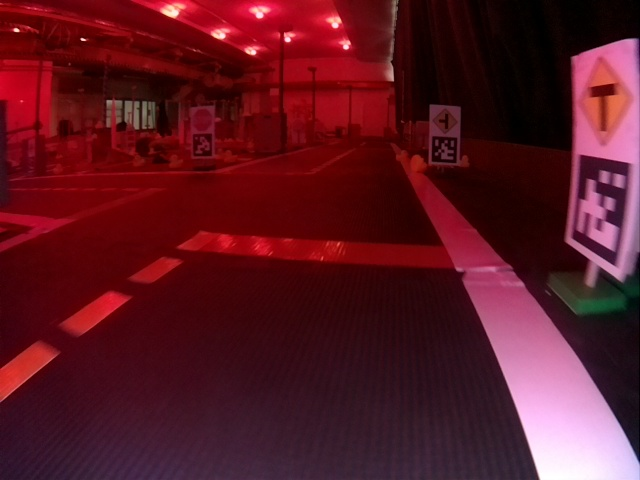Duckie: (410, 155, 427, 172), (396, 150, 408, 161), (459, 156, 470, 167)
Intersection sign: (577, 54, 636, 146), (432, 106, 459, 134)
QR code: (570, 151, 630, 270), (432, 138, 458, 164), (194, 134, 212, 155)
Stop sign: (191, 108, 212, 132)
